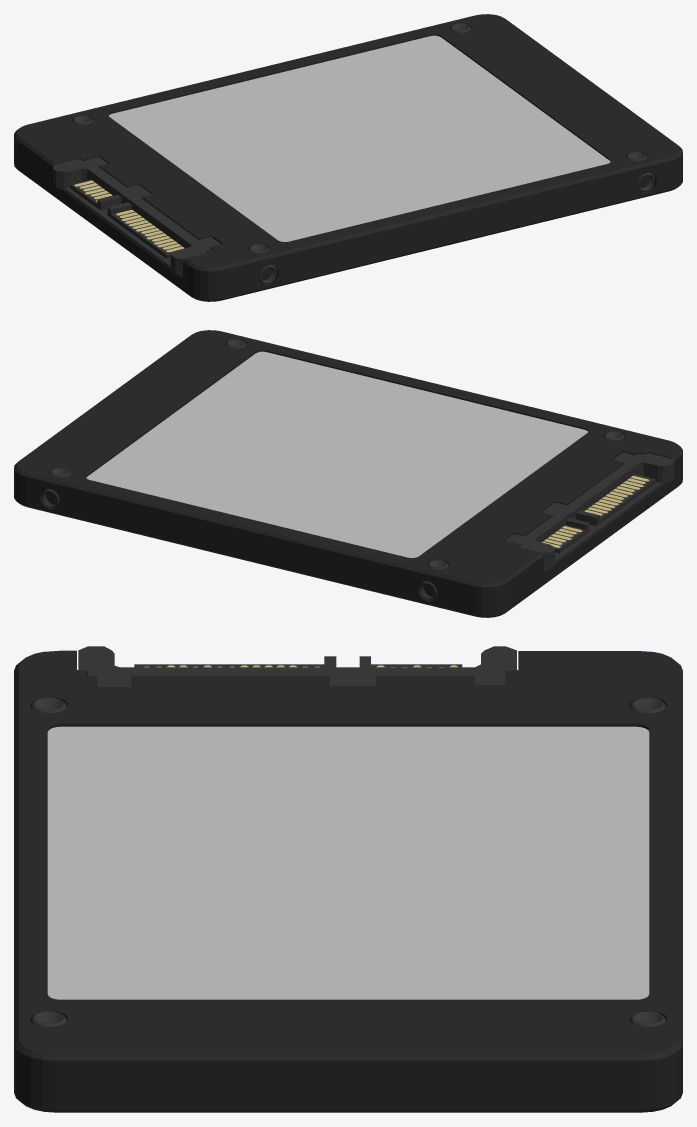
Rendered from ssd.glb.
3 views of the same model, one above another, from view 1: azimuth 30°, elevation 25°; view 2: azimuth 150°, elevation 25°; view 3: azimuth 270°, elevation 25° (orthographic). The views are drawn at different scales.
Visible parts, largest first — view 1: Object_4, Object_3; view 2: Object_4, Object_3; view 3: Object_4, Object_3.
Boxes of the visible parts, x1,y1,x2,y2 form: Object_4: [14, 14, 682, 301]; Object_3: [53, 157, 221, 276]; Object_4: [14, 330, 682, 617]; Object_3: [505, 452, 674, 570]; Object_4: [14, 650, 682, 1112]; Object_3: [78, 646, 516, 686].
Bounding box in the file's own units: 10.05 × 0.6763 × 6.92.
Materials: 2 (2 with a texture image).
